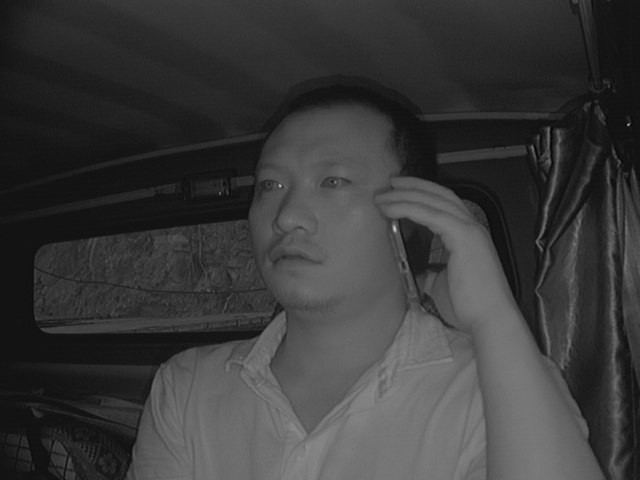hand: (374, 171, 487, 329)
